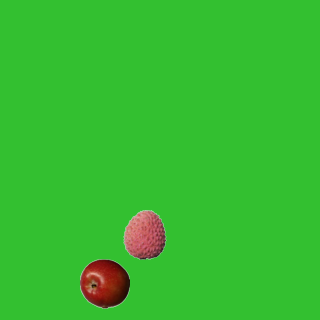Apple Braeburn: (79, 258, 129, 308)
Lychee: (119, 209, 169, 259)
